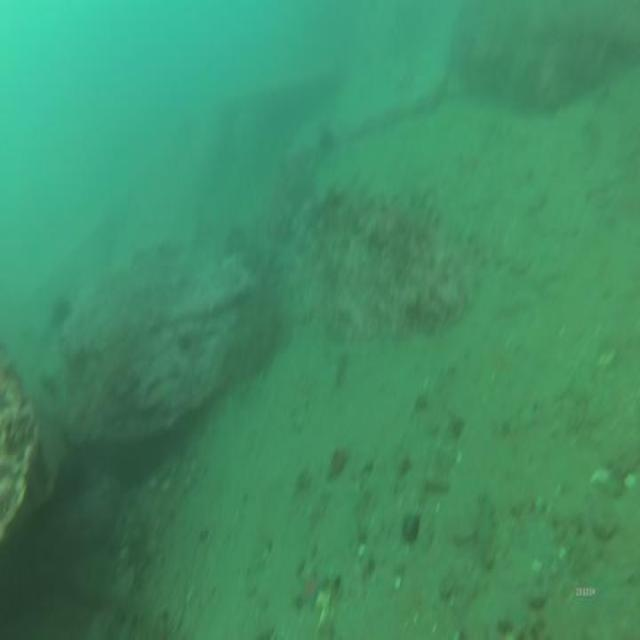starfish: (296, 564, 328, 616)
